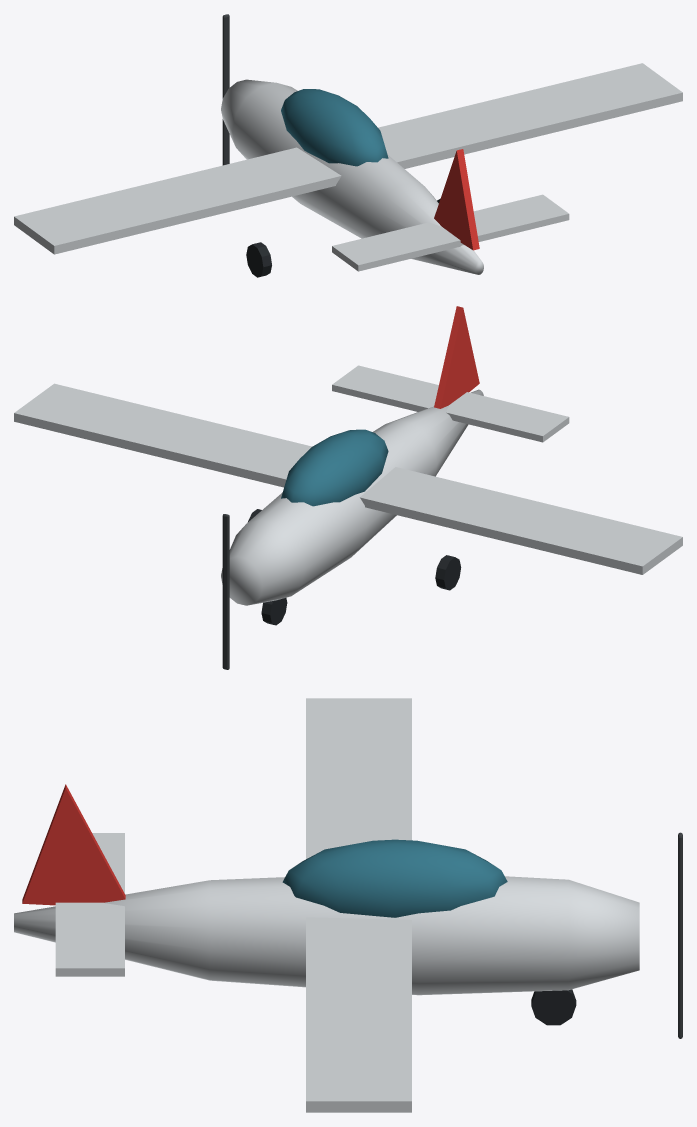
Rendered from fable-t01-aircraft-lod1.glb.
3 renders of one model, top to bottom at view 1: azimuth 30°, elevation 25°; view 2: azimuth 150°, elevation 25°; view 3: azimuth 270°, elevation 25°, orthographic. The views are drawn at different scales.
Parts seen in each view (by area): view 1: LOD1_Wing, LOD1_Fuselage, LOD1_Tailplane, LOD1_Canopy, LOD1_Fin, LOD1_Propeller, LOD1_Wheel_Main_L; view 2: LOD1_Wing, LOD1_Fuselage, LOD1_Tailplane, LOD1_Canopy, LOD1_Fin, LOD1_Propeller, LOD1_Wheel_Main_L, LOD1_Wheel_Nose; view 3: LOD1_Fuselage, LOD1_Wing, LOD1_Canopy, LOD1_Fin, LOD1_Tailplane, LOD1_Wheel_Nose, LOD1_Propeller.
Boxes of the visible parts, x1,y1,x2,y2 form: LOD1_Wing: (14,63,682,254); LOD1_Fuselage: (221,79,483,274); LOD1_Tailplane: (332,194,569,271); LOD1_Canopy: (281,89,388,166); LOD1_Fin: (434,149,479,250); LOD1_Propeller: (222,14,229,165); LOD1_Wheel_Main_L: (246,242,271,277); LOD1_Wing: (14,383,682,574); LOD1_Fuselage: (221,389,483,605); LOD1_Tailplane: (332,365,569,442); LOD1_Canopy: (281,429,388,506); LOD1_Fin: (434,306,479,408); LOD1_Propeller: (222,514,229,669); LOD1_Wheel_Main_L: (435,555,461,590); LOD1_Wheel_Nose: (261,598,287,625); LOD1_Fuselage: (14,876,639,995); LOD1_Wing: (306,698,411,1112); LOD1_Canopy: (282,839,507,917); LOD1_Fin: (22,784,125,905); LOD1_Tailplane: (55,833,124,976); LOD1_Wheel_Nose: (531,989,576,1025); LOD1_Propeller: (678,832,682,1038).
Size of the model in its own units: 11.44 by 3.33 by 8.02.
